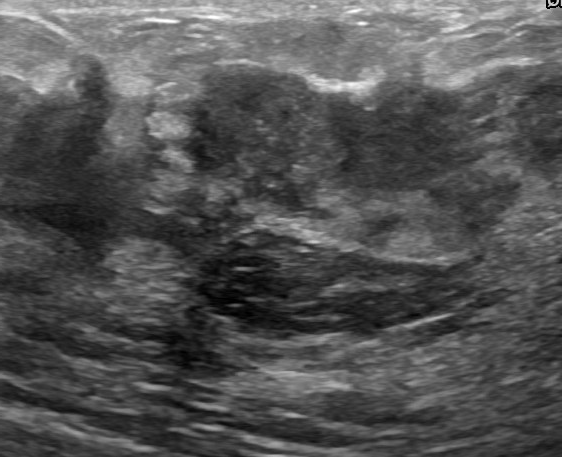Malignant: (191, 61, 314, 196)
